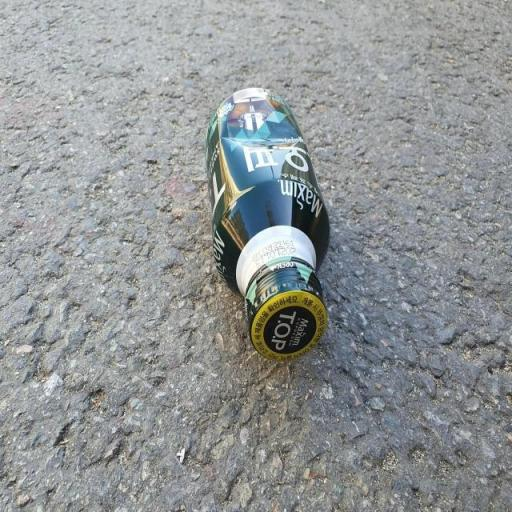metal: (195, 66, 347, 379)
